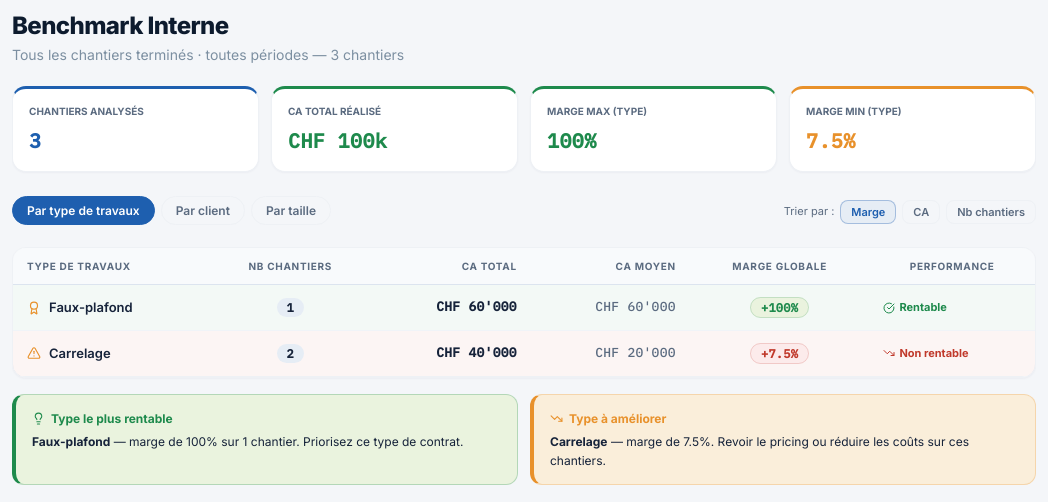
Test case: FILTRES + TRI — recomposition réelle › « Par client » puis « Par taille » recomposent le tableau (comportement inchangé)
Note: → Par client (pas de clientNom → fallback "Client #cl1")
Click the button "Par client" at [203, 211], box x1=161 y1=196 x2=245 y2=225
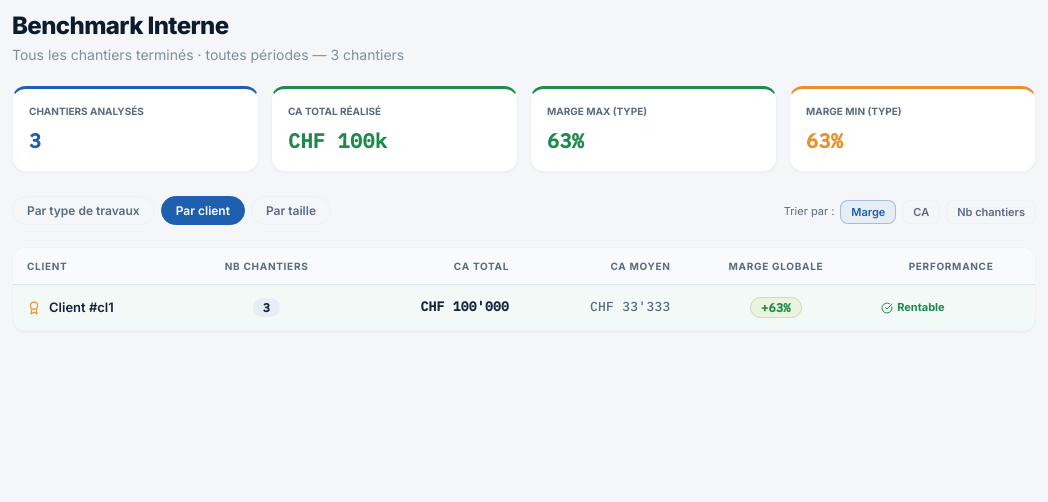
Expected: the text "Client #cl1" is shown, x1=27 y1=299 x2=114 y2=315
Note: → Par taille (60k et 20k tombent dans "Moyen (20–80k)")
Click the button "Par taille" at [291, 211], box x1=251 y1=196 x2=331 y2=225
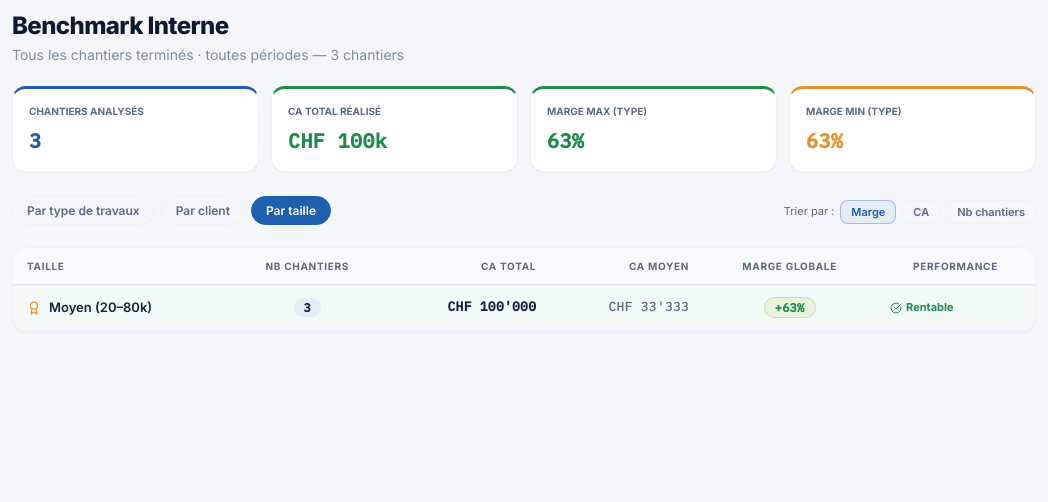
Expected: the text "Moyen (20–80k)" is shown, x1=27 y1=299 x2=152 y2=315
